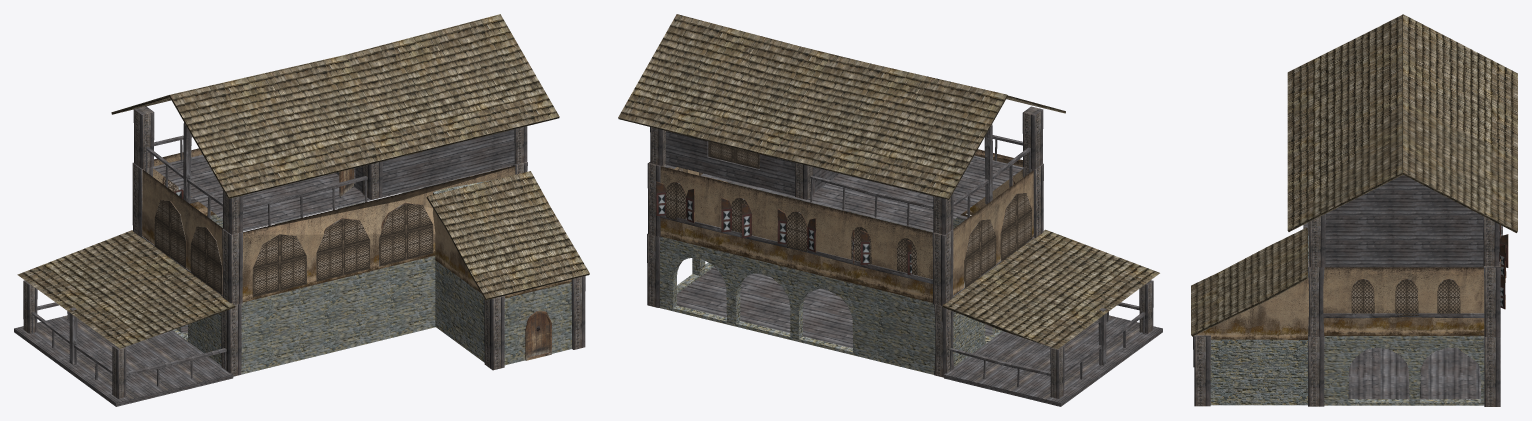
Rendered from tavern_main_LOD1.dae.
3 views of the same model, side by side, from view 1: azimuth 30°, elevation 25°; view 2: azimuth 150°, elevation 25°; view 3: azimuth 270°, elevation 25° (orthographic). The views are drawn at different scales.
Parts seen in each view (by area): view 1: Default_Layer; view 2: Default_Layer; view 3: Default_Layer.
Boxes of the visible parts, x1,y1,x2,y2 form: Default_Layer: [14, 14, 589, 406]; Default_Layer: [618, 14, 1162, 406]; Default_Layer: [1191, 14, 1517, 406].
Bounding box in the file's own units: 33.91 × 18.75 × 22.5.
